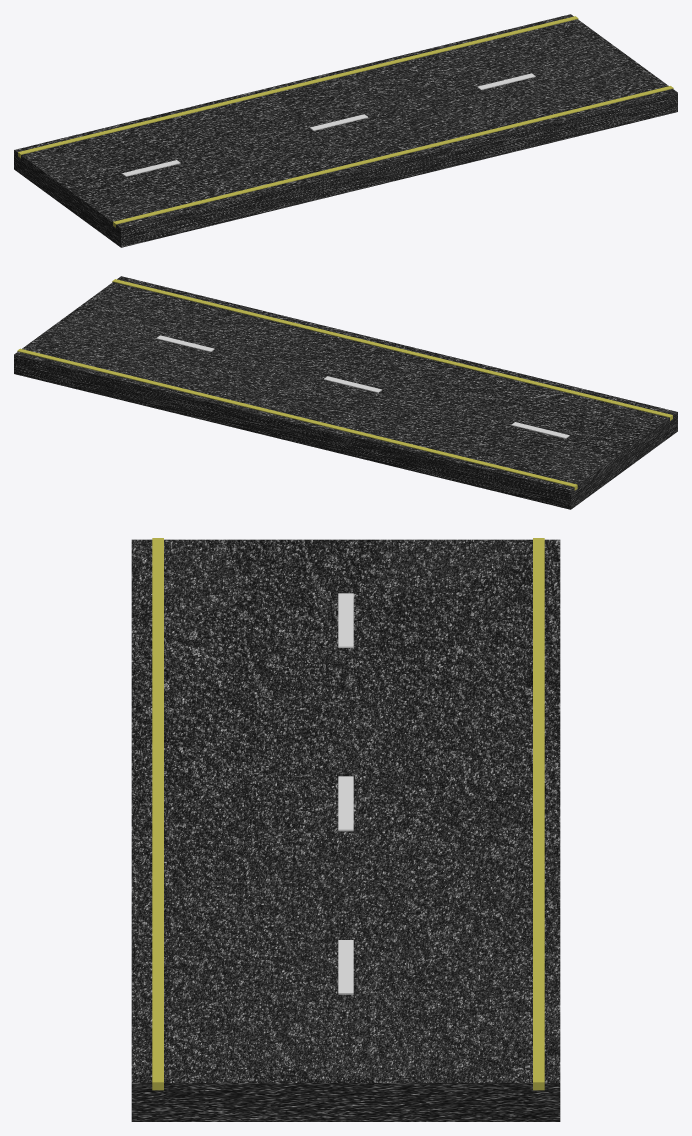
Rendered from raod.fbx.
The picture shows the model from 3 angles, top to bottom: view 1: azimuth 30°, elevation 25°; view 2: azimuth 150°, elevation 25°; view 3: azimuth 270°, elevation 25°; orthographic projection. The views are drawn at different scales.
Parts seen in each view (by area): view 1: pCube27; view 2: pCube27; view 3: pCube27.
Boxes of the visible parts, x1,y1,x2,y2 form: pCube27: (14, 14, 677, 247); pCube27: (14, 276, 677, 509); pCube27: (131, 538, 560, 1121).
Bounding box in the file's own units: 30.04 × 1.04 × 10.
Materials: 3 (1 with a texture image).
